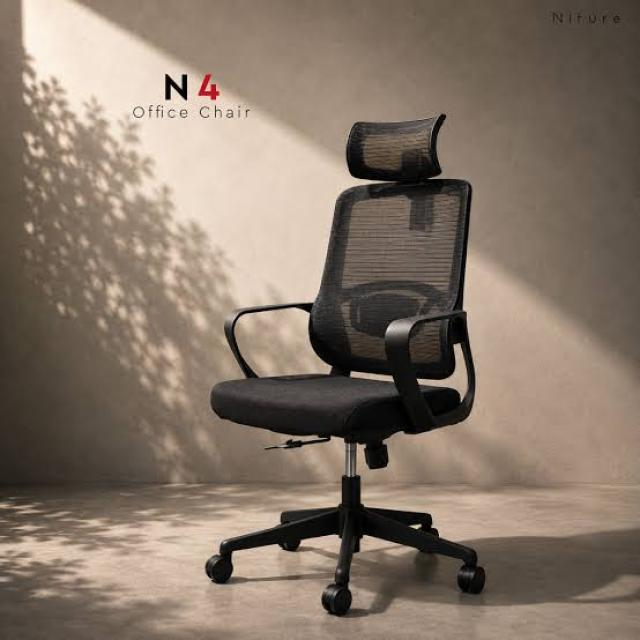Chair: (178, 104, 514, 629)
